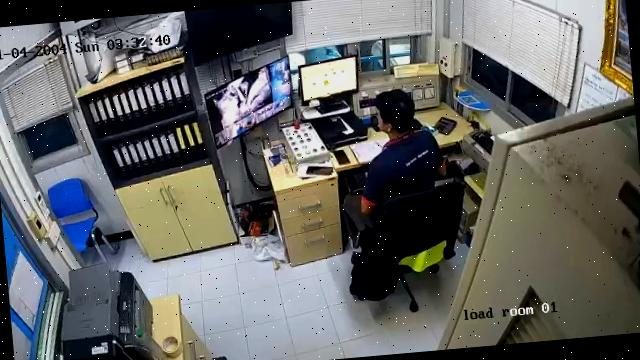Head: (376, 90, 414, 135)
People: (343, 91, 447, 233)
Phone: (333, 150, 350, 164), (307, 167, 332, 175)
